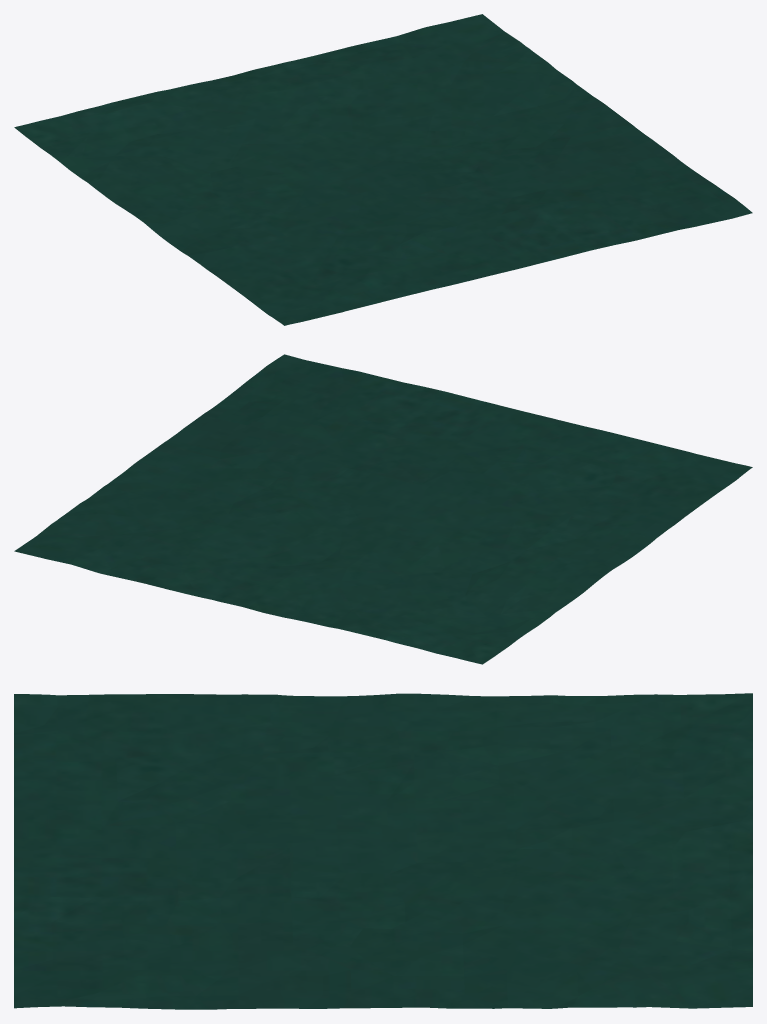
3 renders of one model, top to bottom at view 1: azimuth 30°, elevation 25°; view 2: azimuth 150°, elevation 25°; view 3: azimuth 270°, elevation 25°, orthographic. The views are drawn at different scales.
Size of the model in its own units: 52.22 by 0.5723 by 52.22.
2 materials, 2 textured.
